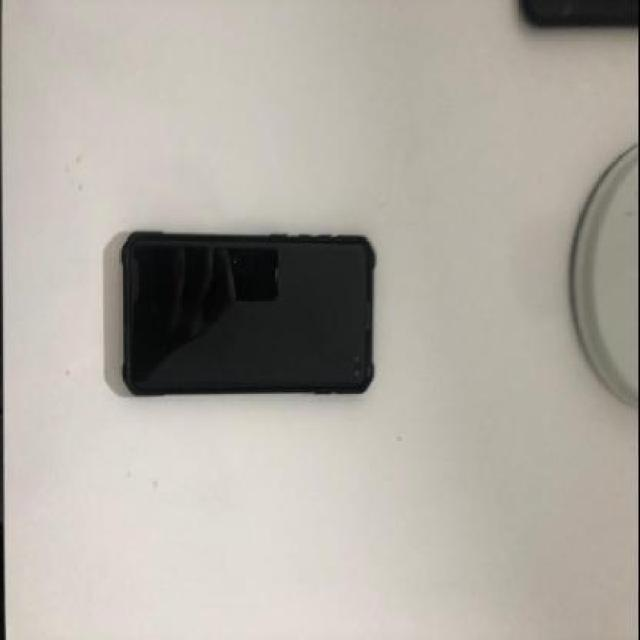mobile: (121, 234, 377, 398)
